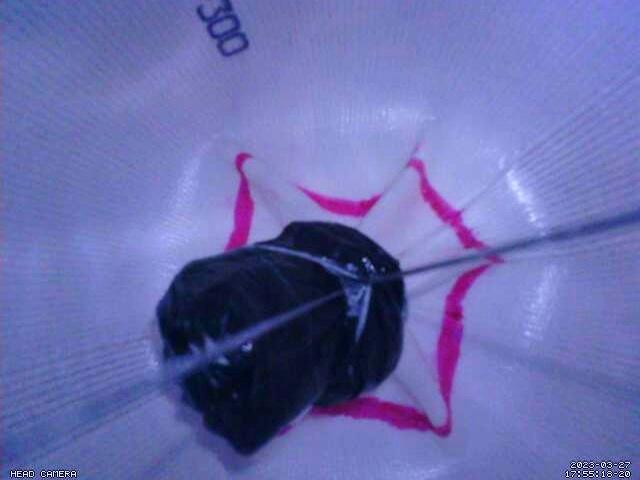red-circle: (222, 150, 500, 440)
